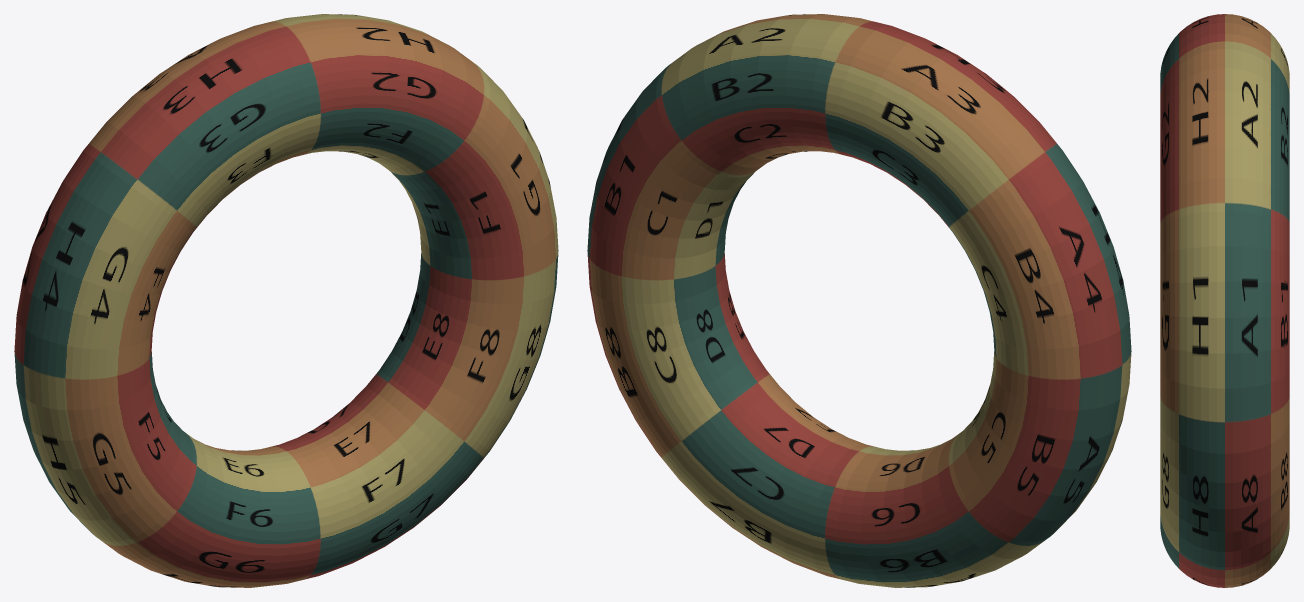
The model's file is texture_torus_R24_r21.glb.
3 views of the same model, side by side, from view 1: azimuth 30°, elevation 25°; view 2: azimuth 150°, elevation 25°; view 3: azimuth 270°, elevation 25° (orthographic). The views are drawn at different scales.
Visible parts, largest first — view 1: world; view 2: world; view 3: world.
Part boxes in pixels (bbox=[...]): world: bbox=[14, 14, 558, 587]; world: bbox=[587, 14, 1131, 587]; world: bbox=[1160, 14, 1289, 587].
Bounding box in the file's own units: 33.6 × 33.53 × 7.59.
1 material, 1 textured.
